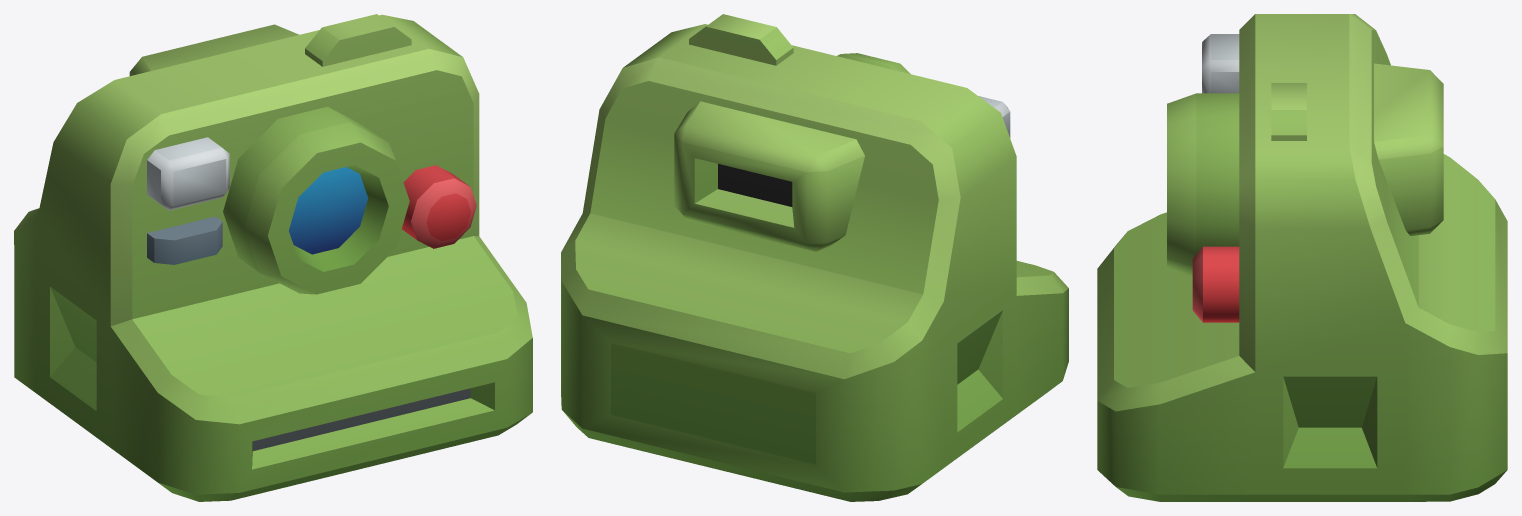
File: instantcamera_green.glb
3 views of the same model, side by side, from view 1: azimuth 30°, elevation 25°; view 2: azimuth 150°, elevation 25°; view 3: azimuth 270°, elevation 25° (orthographic). The views are drawn at different scales.
Visible parts, largest first — view 1: instantcamera_green; view 2: instantcamera_green; view 3: instantcamera_green.
Part boxes in pixels (bbox=[...]): instantcamera_green: bbox=[14, 14, 532, 501]; instantcamera_green: bbox=[561, 14, 1068, 501]; instantcamera_green: bbox=[1097, 14, 1507, 501].
Bounding box in the file's own units: 0.6008 × 0.5576 × 0.5744.
1 material, 1 textured.
